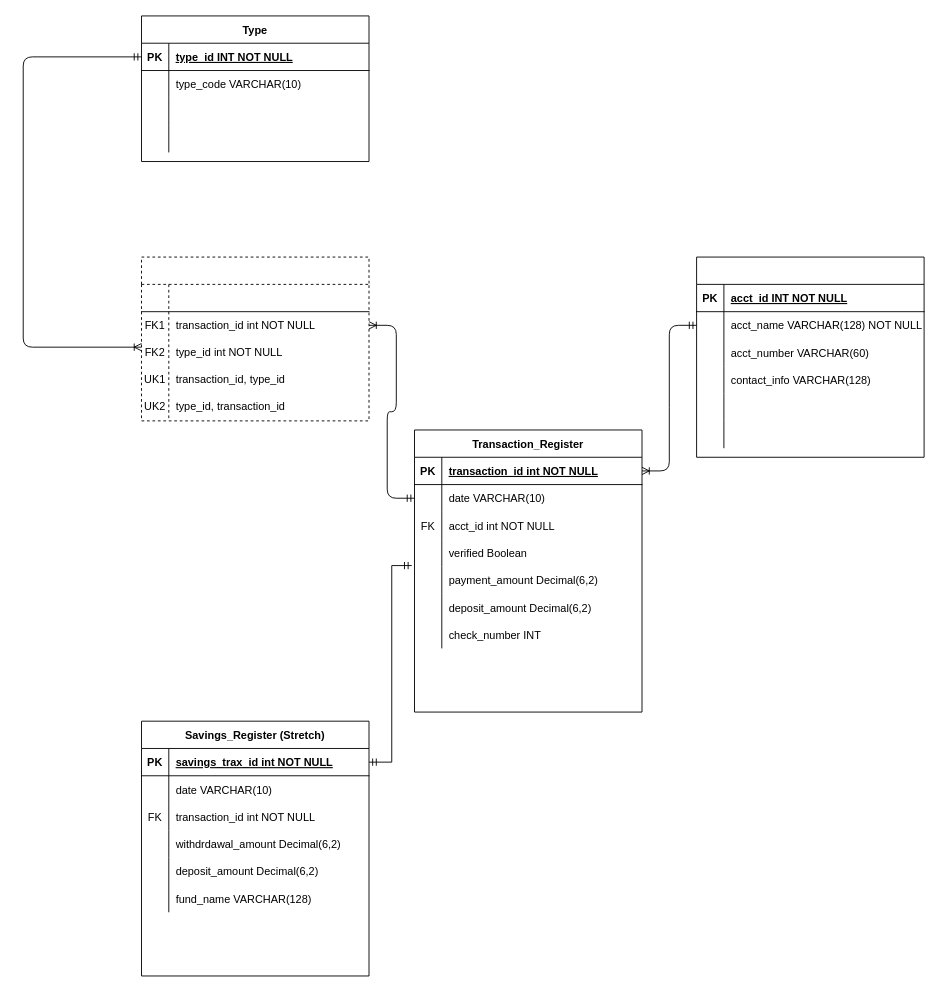
Some shapes in this 940 by 992 pixel diagram are drawn without their labels. Each missing label, with the box of its shape:
Account_List: (696, 256, 924, 457)
Transaction_Types: (141, 256, 369, 421)
